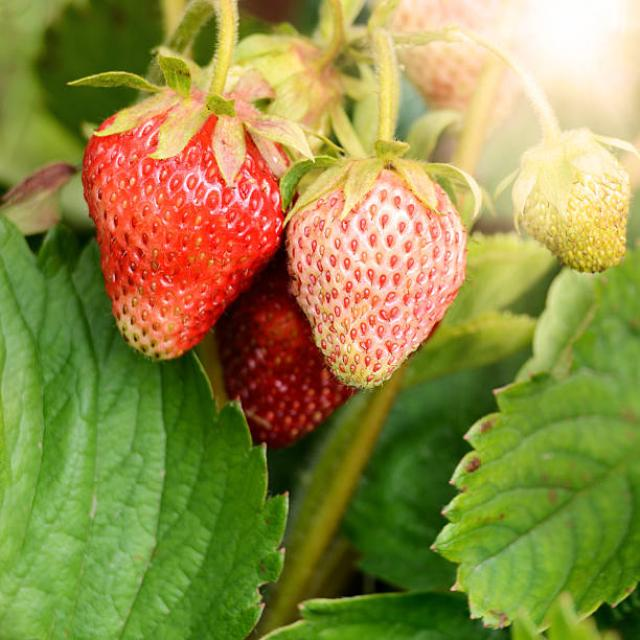Healthy Fruit: (81, 100, 285, 362), (285, 170, 467, 390)
